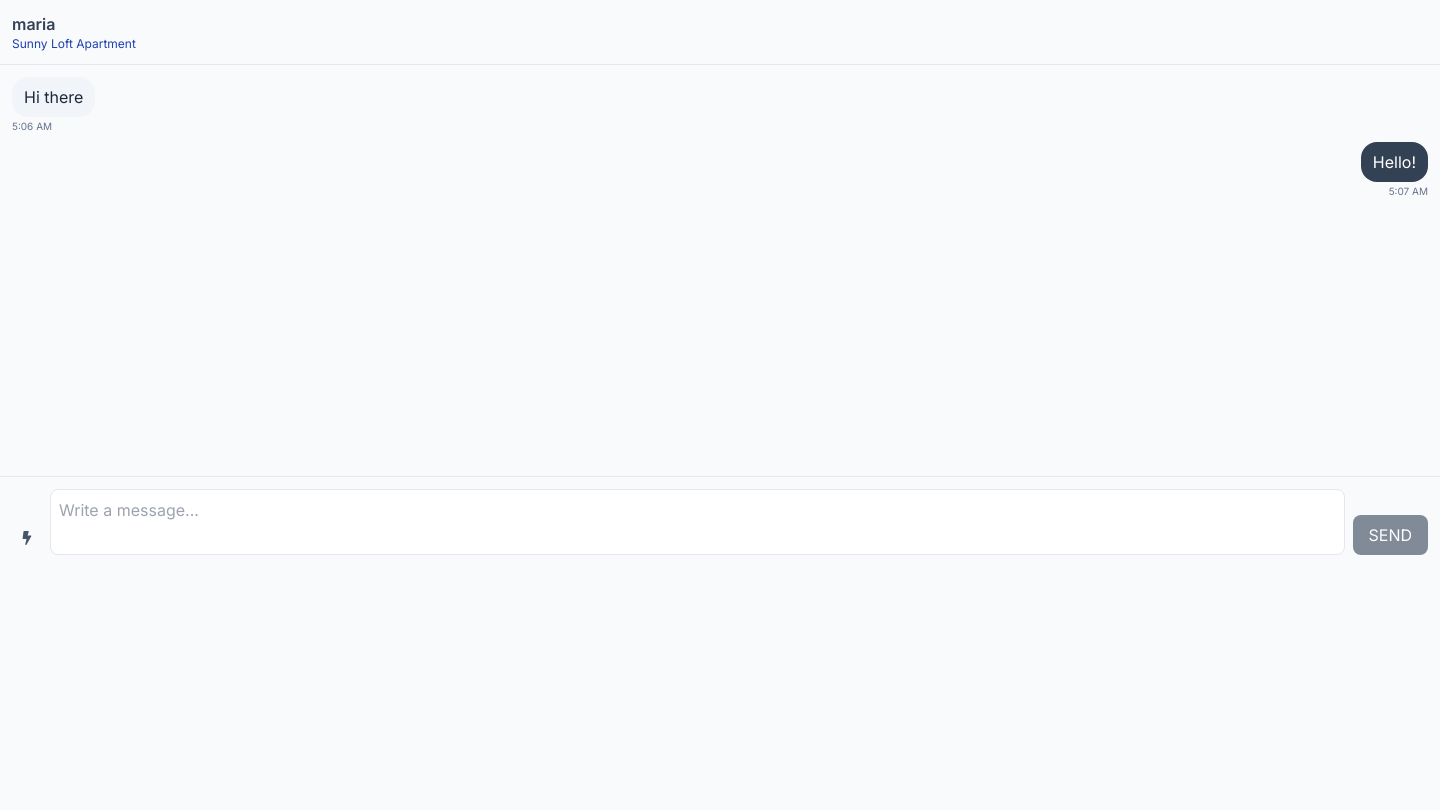
Test: ConversationThread › shows an error when sending fails
The image size is (1440, 810).
Check: the text "Hi there" is shown, box [12, 77, 95, 117]
Type "Spam" into the text box labelled "message".
click(697, 522); type("Spam")  # box [50, 489, 1344, 555]
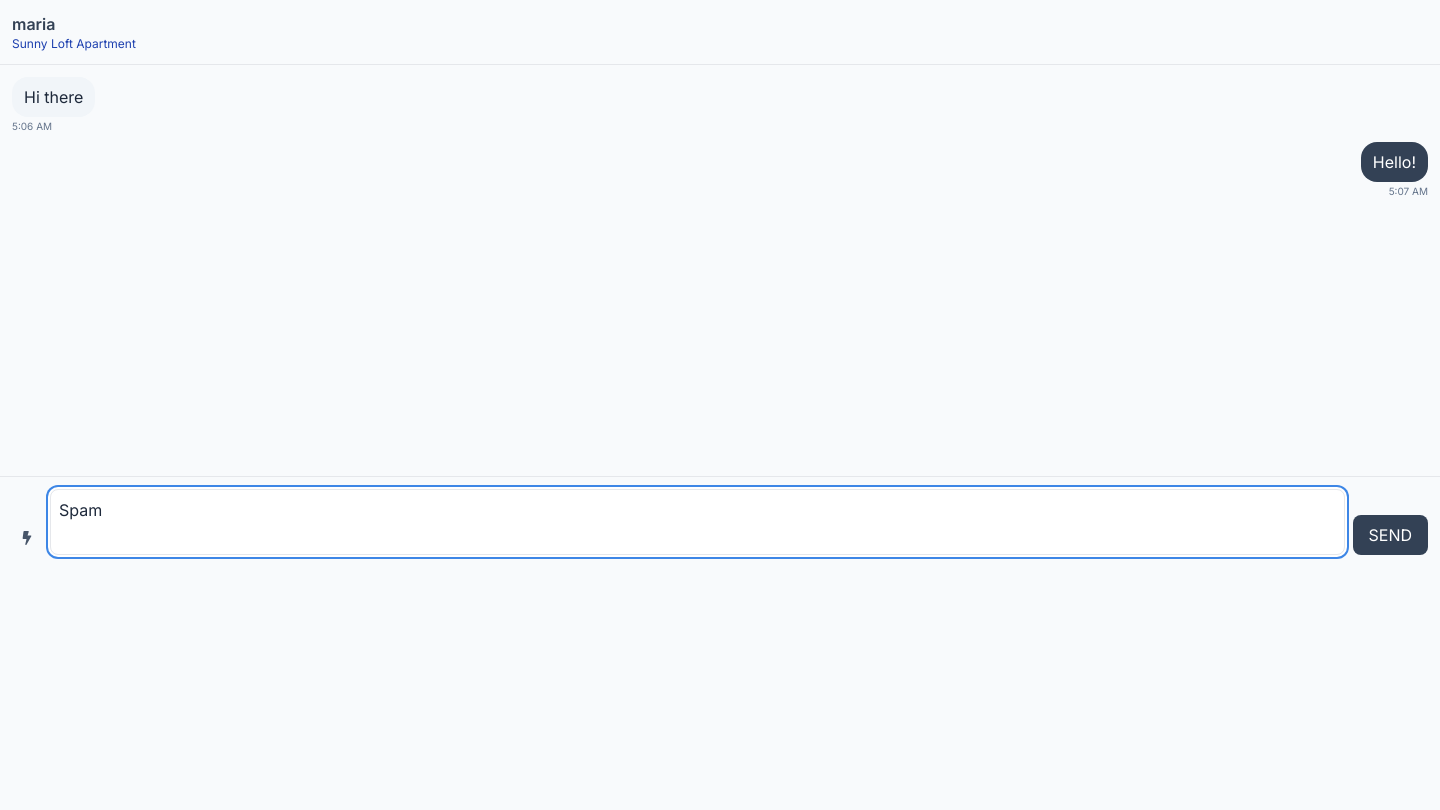
Click the button "Send".
click(1390, 535)  # box [1352, 515, 1428, 555]
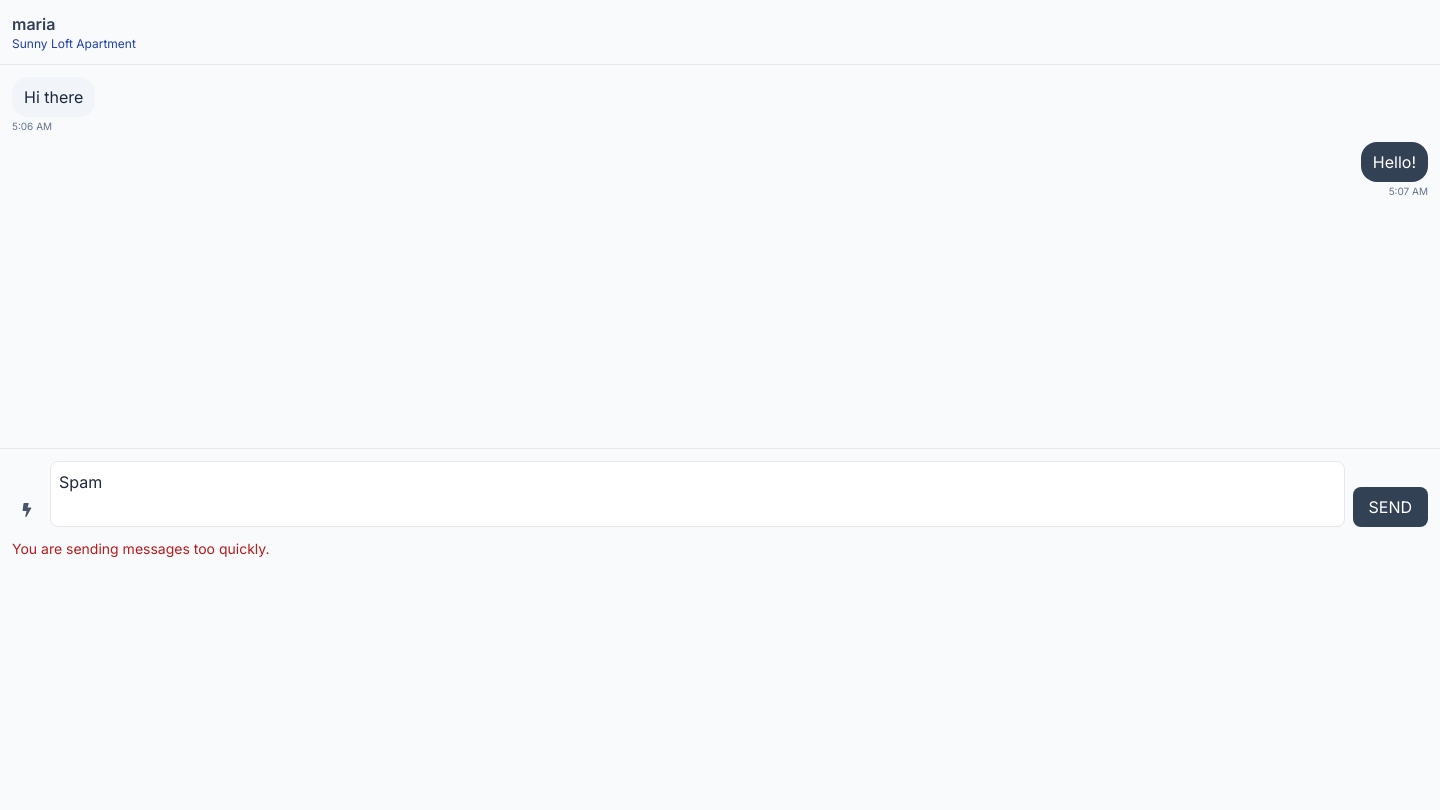
Check: the text "You are sending messages too quickly." is shown, box [12, 540, 270, 557]
